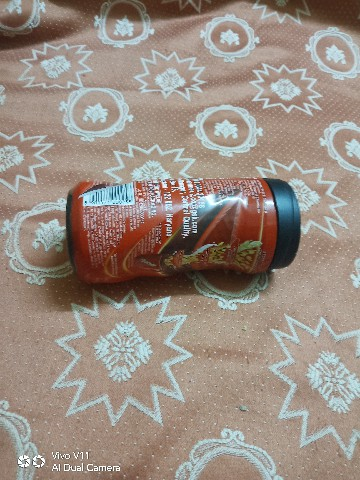boost small: (44, 162, 311, 300)
